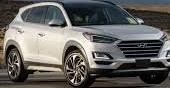SUV: (5, 2, 170, 88)
